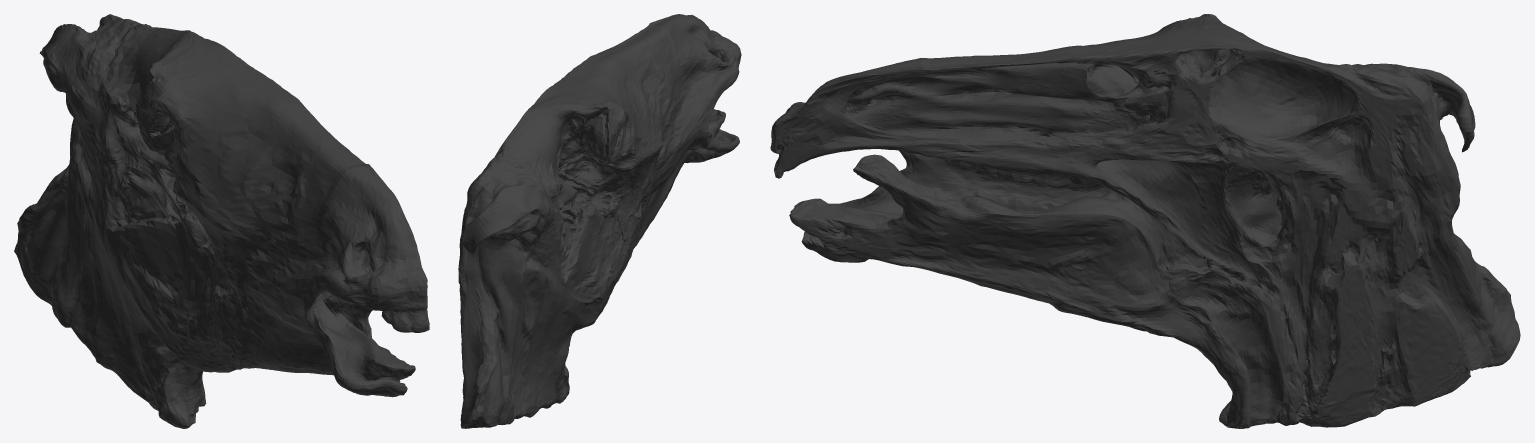
Rendered from ZBrushPolyMesh3D.glb.
3 renders of one model, left to right at view 1: azimuth 30°, elevation 25°; view 2: azimuth 150°, elevation 25°; view 3: azimuth 270°, elevation 25°, orthographic. The views are drawn at different scales.
Visible parts, largest first — view 1: ZBrushPolyMesh3D; view 2: ZBrushPolyMesh3D; view 3: ZBrushPolyMesh3D.
Boxes of the visible parts, x1,y1,x2,y2 form: ZBrushPolyMesh3D: (14,14,429,428); ZBrushPolyMesh3D: (458,14,741,428); ZBrushPolyMesh3D: (770,14,1520,428).
Size of the model in its own units: 9.55 by 34.98 by 60.14.
1 material, 1 textured.
